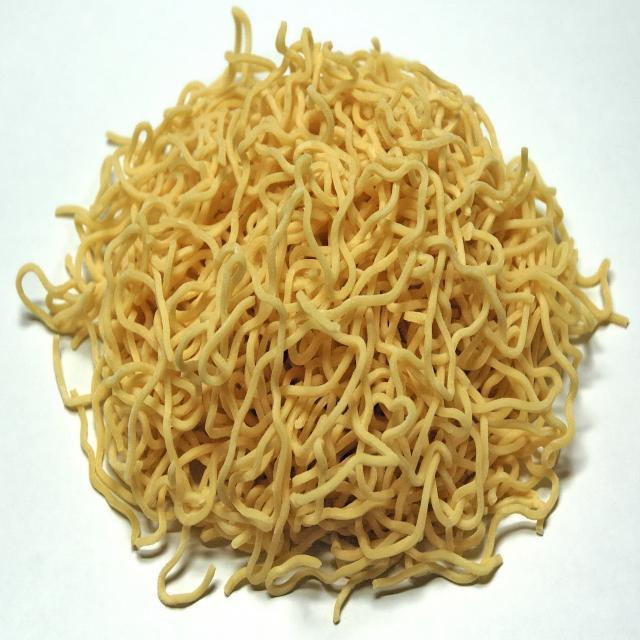noodle: (45, 38, 588, 591)
